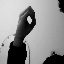o: (17, 5, 37, 36)
